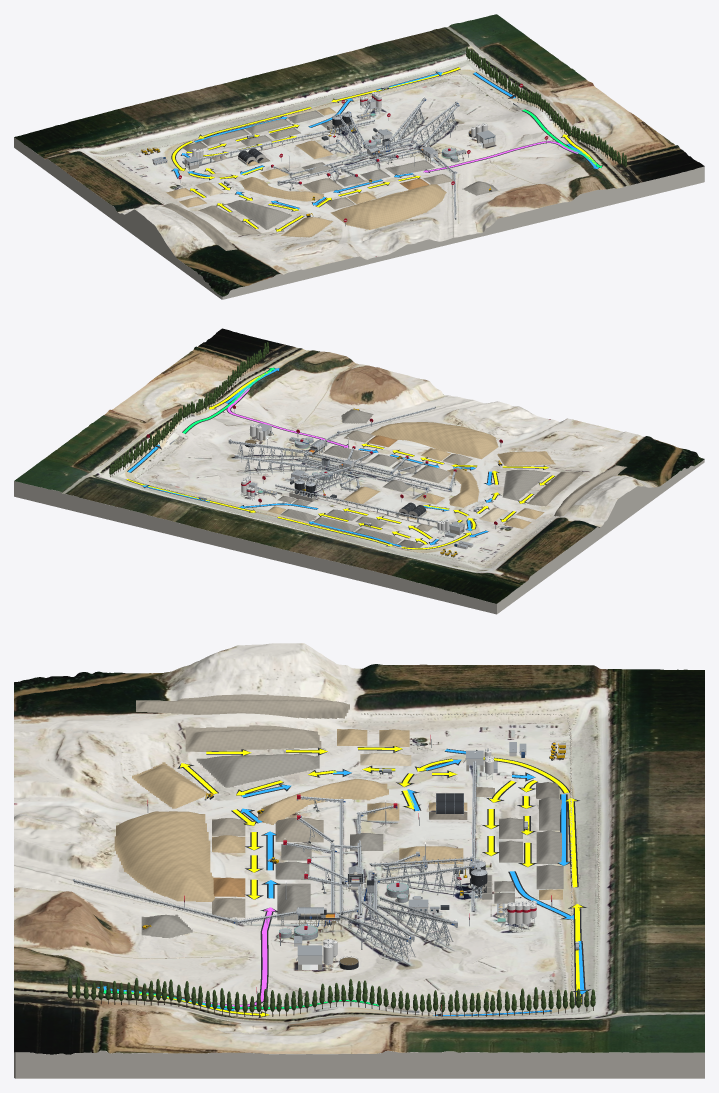
File: carriere.glb
3 views of the same model, one above another, from view 1: azimuth 30°, elevation 25°; view 2: azimuth 150°, elevation 25°; view 3: azimuth 270°, elevation 25° (orthographic). The views are drawn at different scales.
Parts seen in each view (by area): view 1: Sol, Socle, pile_z43, arbres, pile_z32, pile_0-4-plv, pile_0-80-pv, pile_0-20-r1v, pile_z42, blocs, convoyeur_tremie, fleche_40; view 2: Sol, Socle, pile_z43, arbres, pile_z32, pile_0-4-plv, pile_0-80-pv, pile_0-20-r1v, pile_z42, blocs, convoyeur_tremie, fleche_40; view 3: Sol, Socle, pile_z43, arbres, pile_0-80-pv, pile_0-20-r1v, pile_z32, pile_0-4-plv, pile_z42, bat_usine-boues, pile_0-31-5-ou-0-4-sv, pile_31-5-63-sv (+19 smaller).
Boxes of the visible parts, <box> form: Sol: <box>14,14,704,296</box>; Socle: <box>14,137,704,299</box>; pile_z43: <box>330,184,446,229</box>; arbres: <box>466,47,626,169</box>; pile_z32: <box>225,200,291,229</box>; pile_0-4-plv: <box>239,177,323,201</box>; pile_0-80-pv: <box>162,203,237,250</box>; pile_0-20-r1v: <box>198,205,261,234</box>; pile_z42: <box>281,217,332,237</box>; blocs: <box>102,71,515,204</box>; convoyeur_tremie: <box>190,119,374,165</box>; fleche_40: <box>423,141,579,172</box>; Sol: <box>14,328,704,603</box>; Socle: <box>14,394,704,614</box>; pile_z43: <box>371,422,498,459</box>; arbres: <box>109,342,269,477</box>; pile_z32: <box>502,469,550,500</box>; pile_0-4-plv: <box>447,468,479,507</box>; pile_0-80-pv: <box>554,465,626,516</box>; pile_0-20-r1v: <box>527,471,582,506</box>; pile_z42: <box>497,451,555,465</box>; blocs: <box>132,437,552,565</box>; convoyeur_tremie: <box>275,484,458,530</box>; fleche_40: <box>226,388,349,447</box>; Sol: <box>14,643,704,1054</box>; Socle: <box>14,676,704,1078</box>; pile_z43: <box>114,811,214,901</box>; arbres: <box>67,977,595,1016</box>; pile_0-80-pv: <box>136,694,349,718</box>; pile_0-20-r1v: <box>185,725,321,751</box>; pile_z32: <box>196,754,319,787</box>; pile_0-4-plv: <box>257,779,388,824</box>; pile_z42: <box>132,762,208,808</box>; bat_usine-boues: <box>296,937,358,970</box>; pile_0-31-5-ou-0-4-sv: <box>275,817,323,842</box>; pile_31-5-63-sv: <box>277,883,310,920</box>.
Size of the model in its own units: 116 by 7.09 by 86.6.
42 materials, 1 textured.
